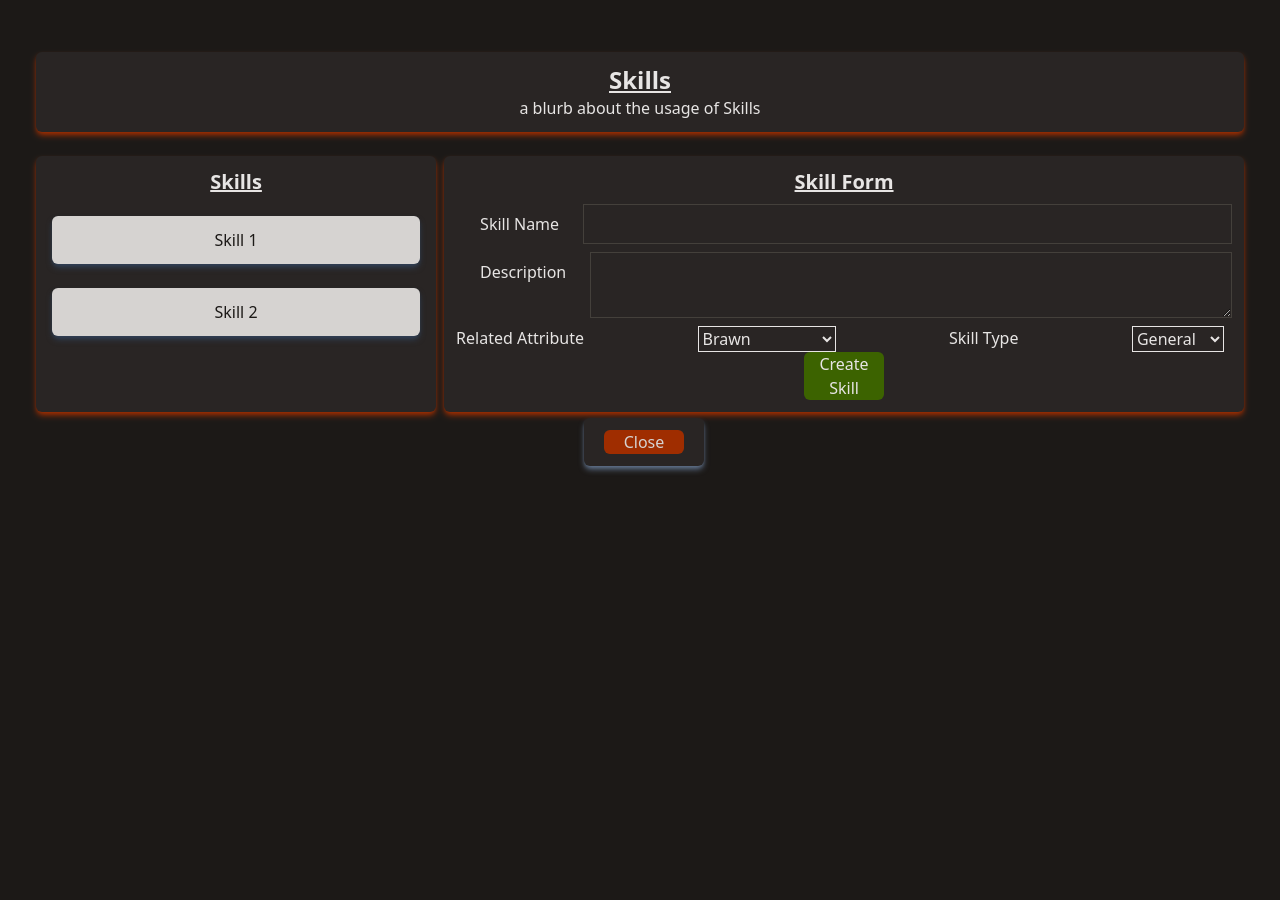
Scenario: SkillForm › Edit puts skill info in form
The image size is (1280, 900).
Click the button "Skill 1" at (236, 240), box [52,216,420,264]
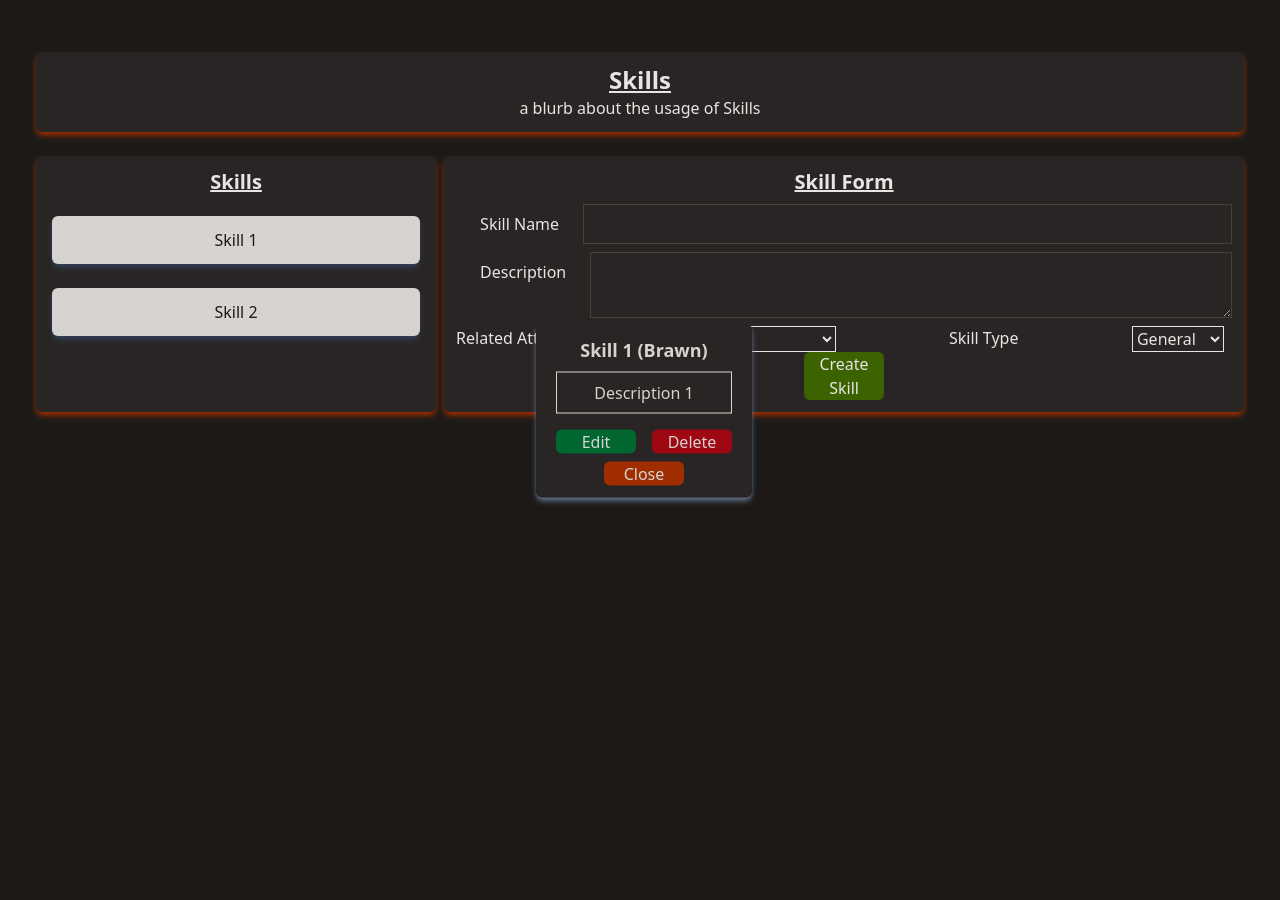
Click the button "Edit" at (596, 442), box [556,430,636,454]
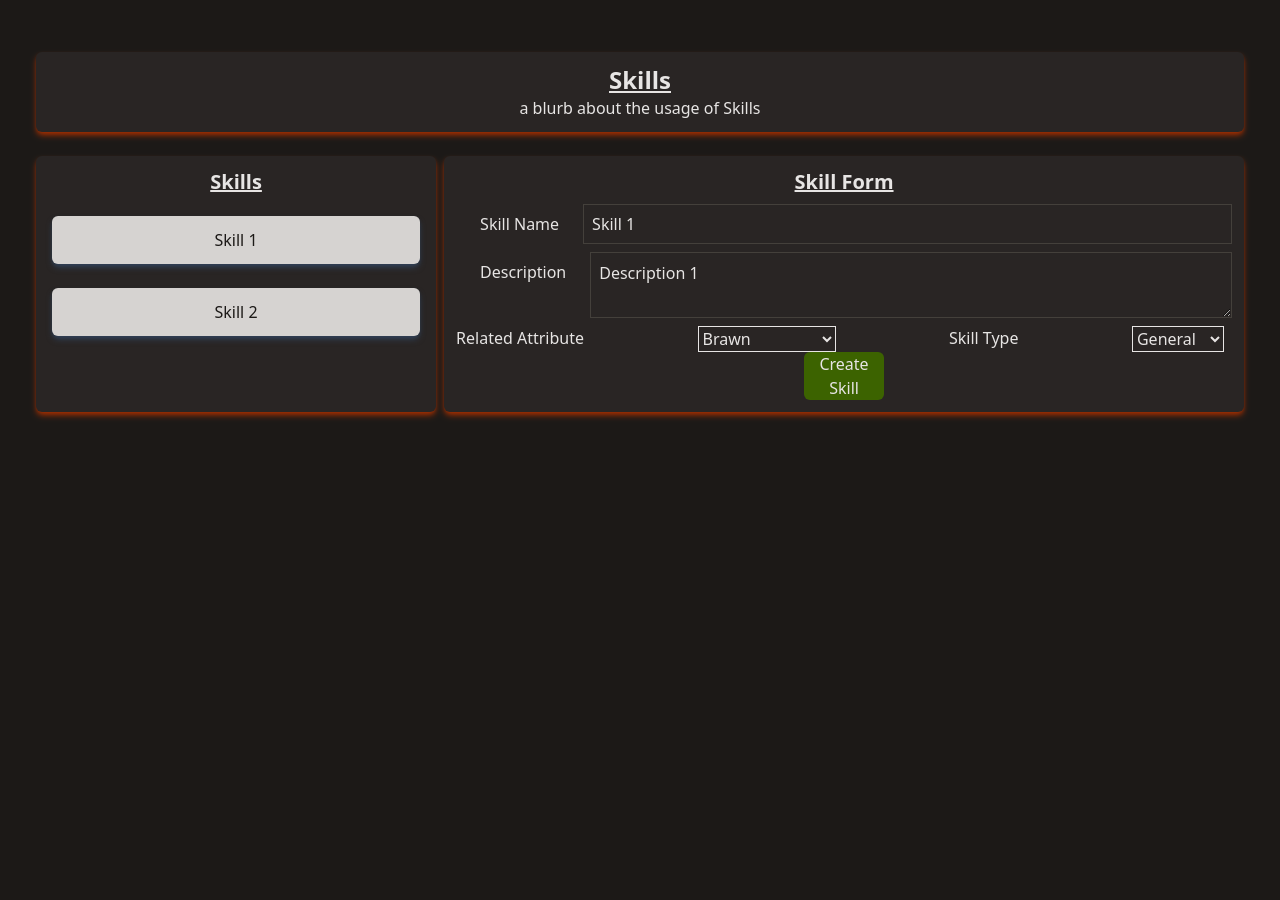
Expected: the field labelled "Skill Name" holds "Skill 1", [583,204,1232,244]
